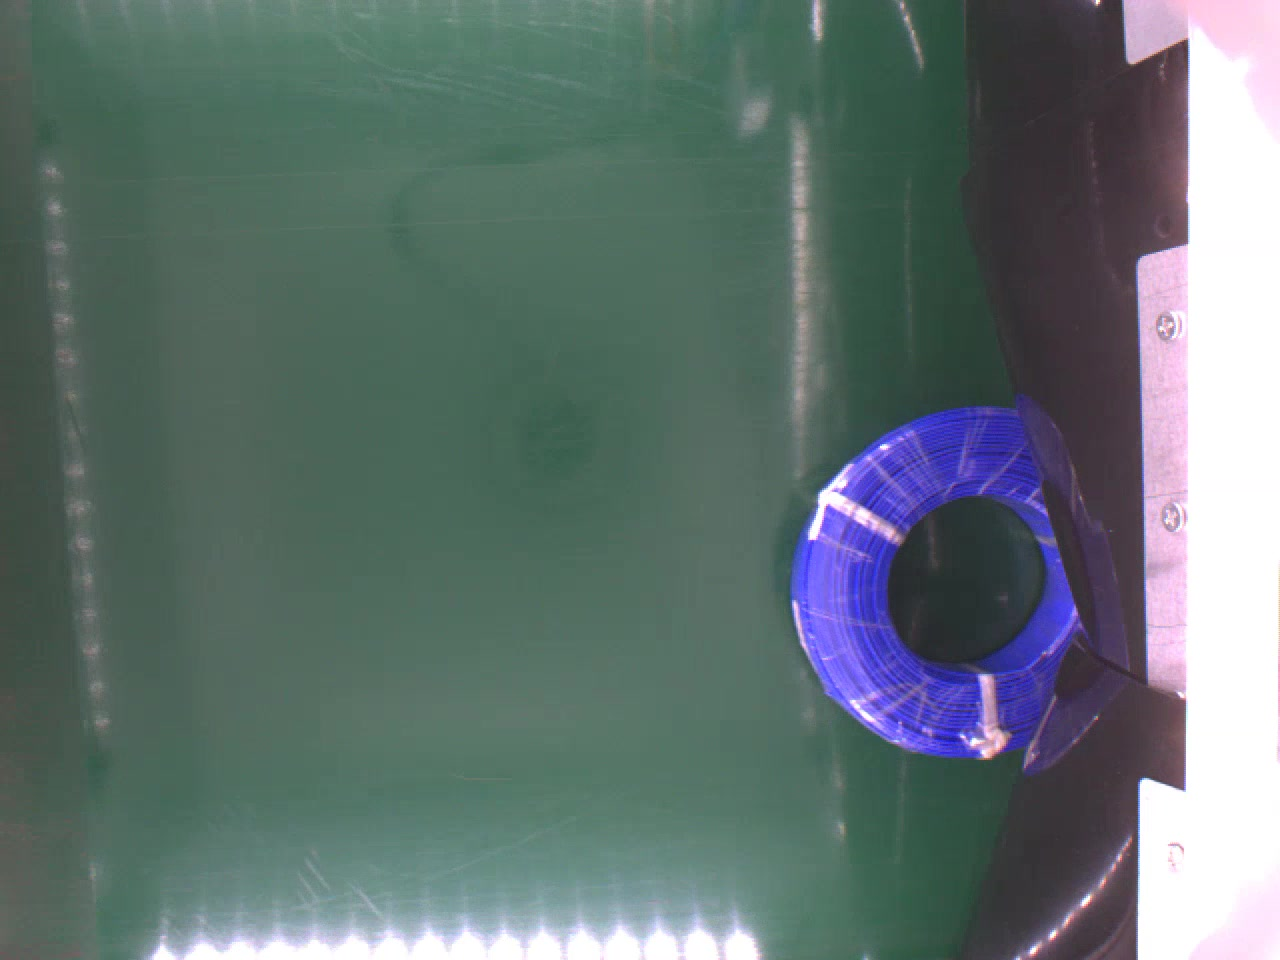blue: (788, 406, 1077, 759)
